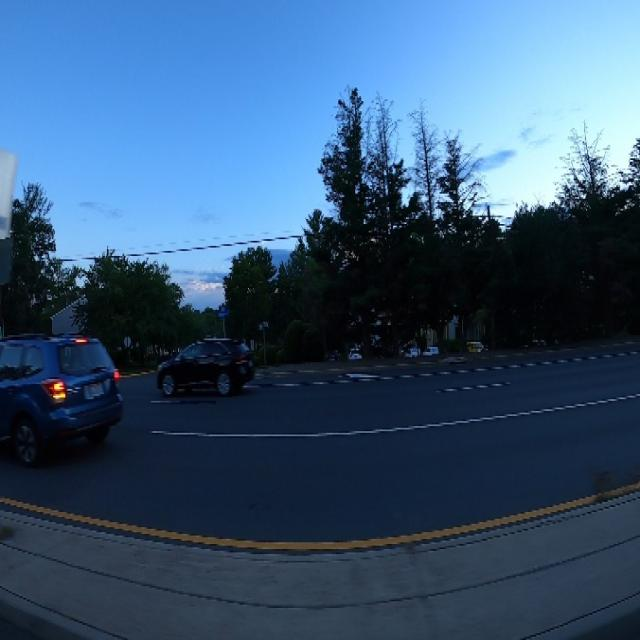cars: (0, 323, 125, 453), (158, 323, 258, 409), (465, 334, 490, 362), (400, 340, 422, 368), (343, 345, 365, 367), (423, 343, 441, 362)
